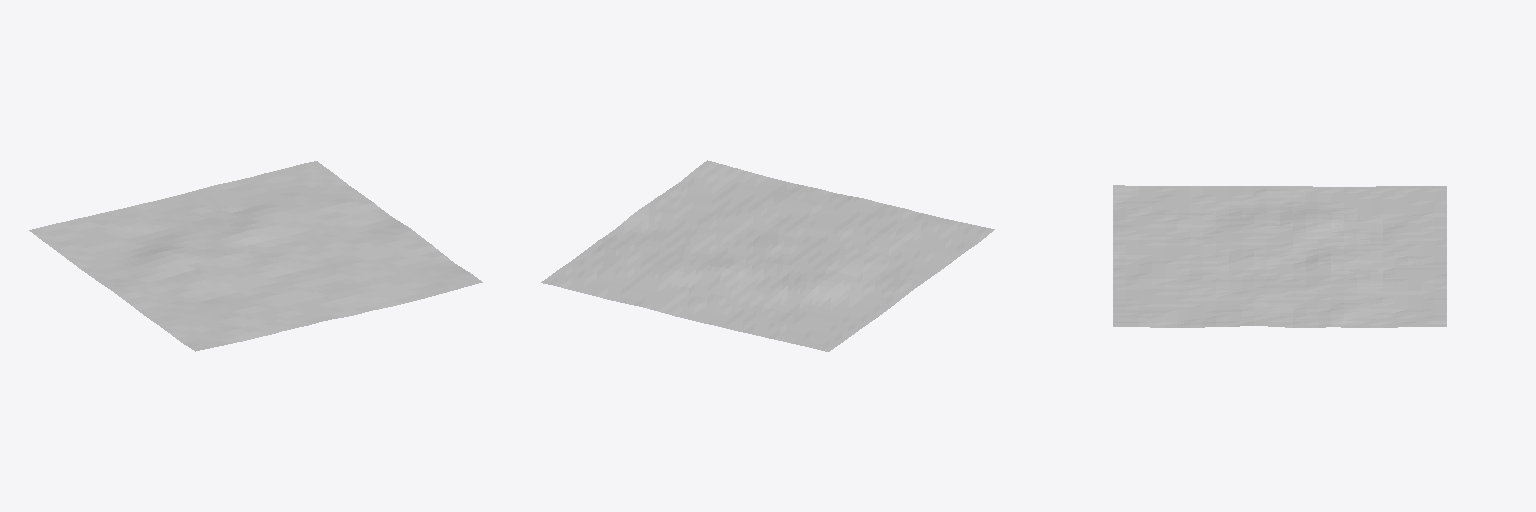
Rendered from trueMT_terrain.obj.
3 renders of one model, left to right at view 1: azimuth 30°, elevation 25°; view 2: azimuth 150°, elevation 25°; view 3: azimuth 270°, elevation 25°, orthographic.
Parts seen in each view (by area): view 1: Terrain_Terrain.001; view 2: Terrain_Terrain.001; view 3: Terrain_Terrain.001.
Boxes of the visible parts, <box> form: Terrain_Terrain.001: <box>29,161,482,351</box>; Terrain_Terrain.001: <box>541,160,994,351</box>; Terrain_Terrain.001: <box>1113,185,1446,327</box>.
Size of the model in its own units: 802 by 13 by 804.